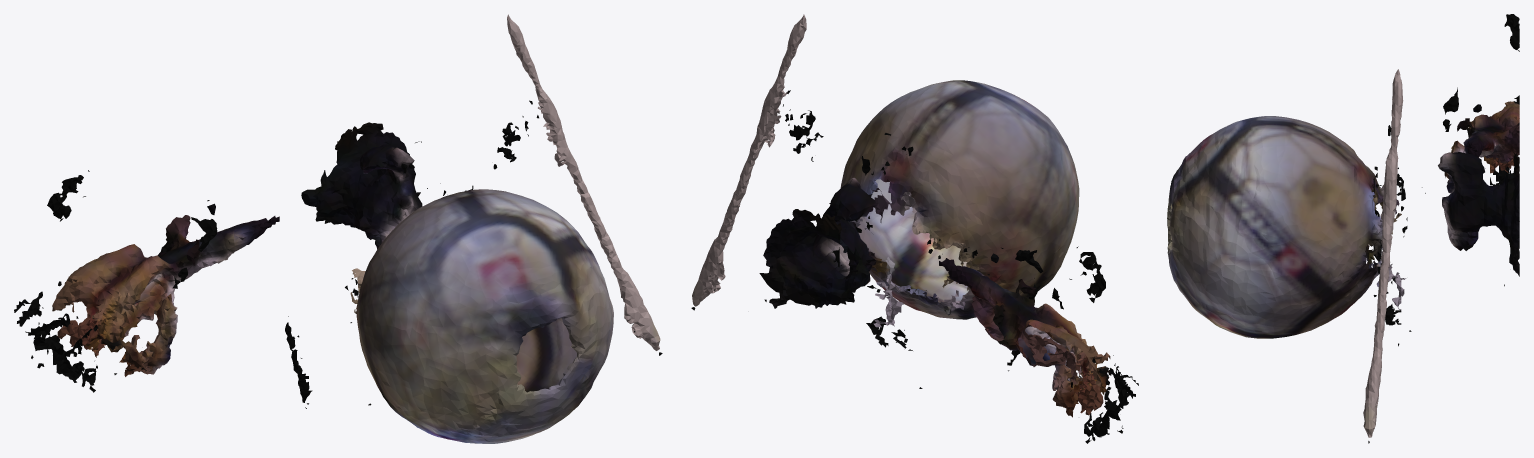
File: soccerball.obj
3 renders of one model, left to right at view 1: azimuth 30°, elevation 25°; view 2: azimuth 150°, elevation 25°; view 3: azimuth 270°, elevation 25°, orthographic. The views are drawn at different scales.
Bounding box in the file's own units: 17.76 × 10.94 × 10.98.
Materials: 1 (1 with a texture image).
